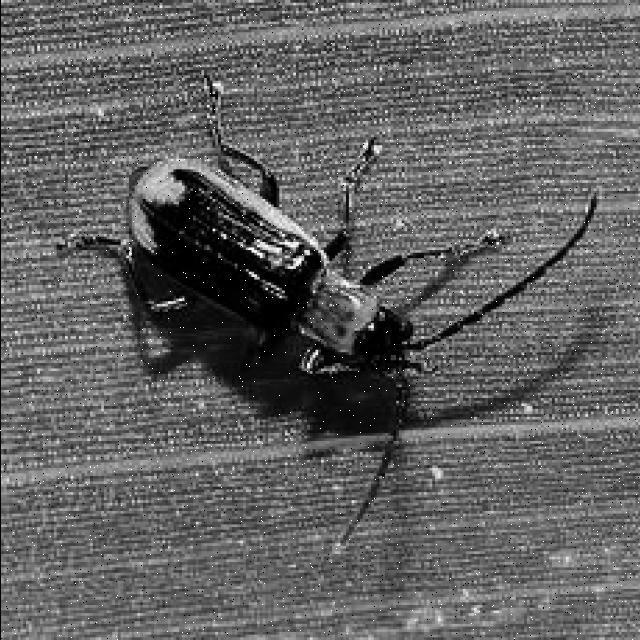trips: (55, 70, 596, 548)
